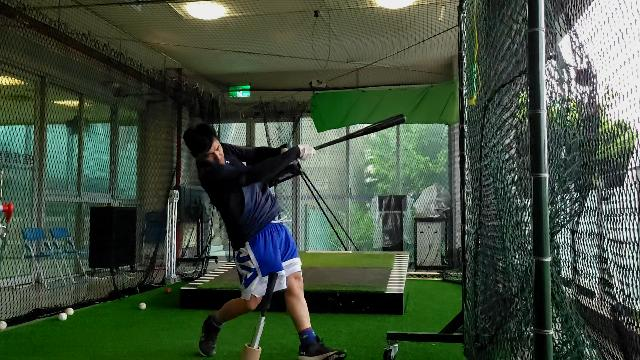bat: (314, 112, 408, 150)
